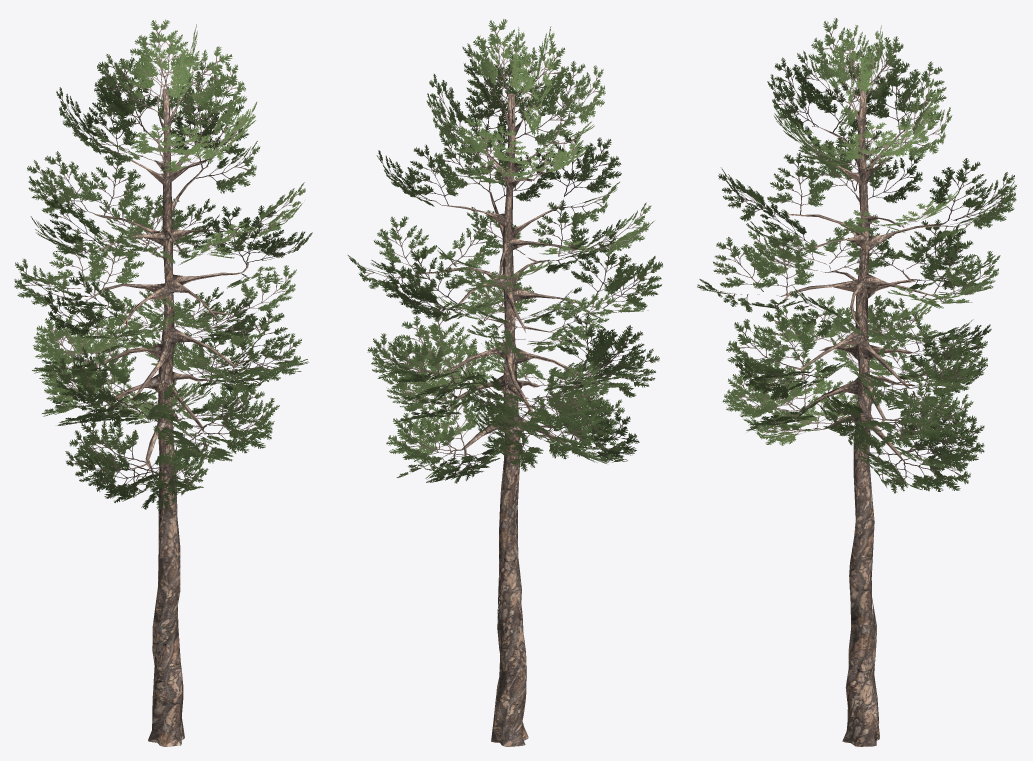
The model's file is tree-2.glb.
3 renders of one model, left to right at view 1: azimuth 30°, elevation 25°; view 2: azimuth 150°, elevation 25°; view 3: azimuth 270°, elevation 25°, orthographic.
Visible parts, largest first — view 1: Tree_1_Tree_1Mat_0, Tree_0_Tree_0Mat_0; view 2: Tree_1_Tree_1Mat_0, Tree_0_Tree_0Mat_0; view 3: Tree_1_Tree_1Mat_0, Tree_0_Tree_0Mat_0.
Boxes of the visible parts, x1,y1,x2,y2 form: Tree_1_Tree_1Mat_0: (14, 19, 312, 510); Tree_0_Tree_0Mat_0: (83, 88, 252, 746); Tree_1_Tree_1Mat_0: (347, 19, 662, 483); Tree_0_Tree_0Mat_0: (413, 90, 595, 746); Tree_1_Tree_1Mat_0: (697, 18, 1016, 493); Tree_0_Tree_0Mat_0: (776, 90, 956, 746).
Bounding box in the file's own units: 2.18 × 5.32 × 2.17.
Materials: 2 (2 with a texture image).
